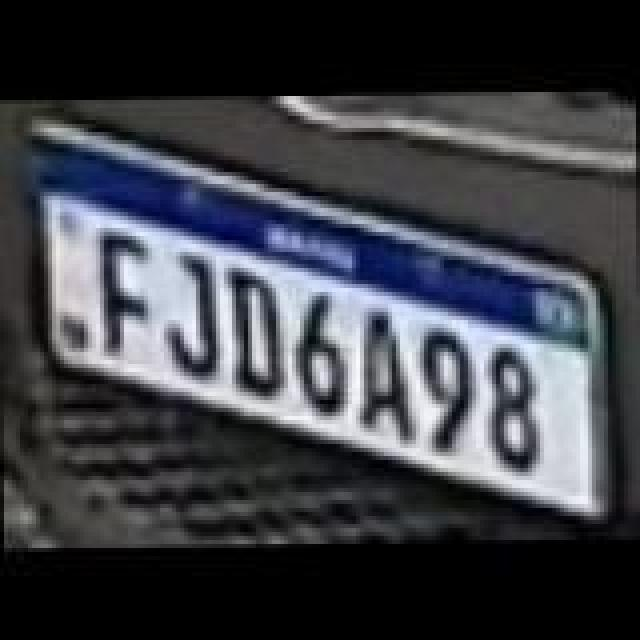6: (288, 288, 352, 416)
8: (482, 342, 542, 474)
9: (418, 328, 478, 456)
A: (358, 306, 426, 446)
D: (224, 268, 288, 404)
F: (94, 230, 154, 362)
J: (160, 250, 224, 382)
